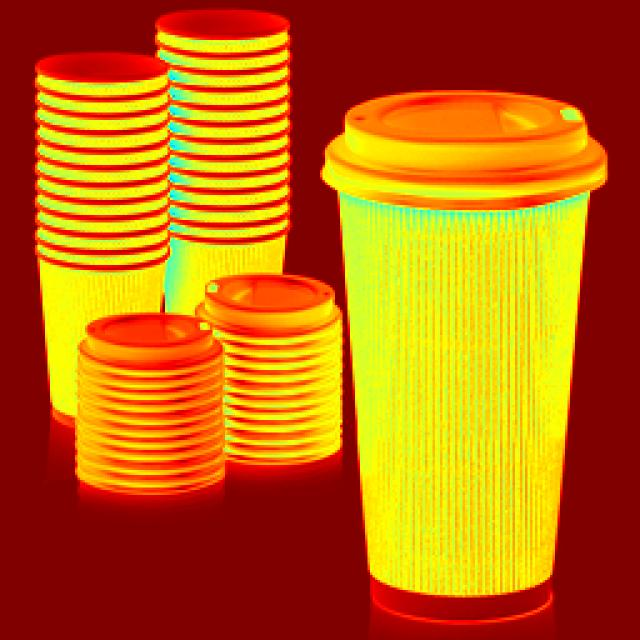Paper Cups: (316, 83, 592, 623), (162, 21, 318, 265), (15, 68, 161, 324), (217, 260, 351, 482), (93, 286, 227, 500)
